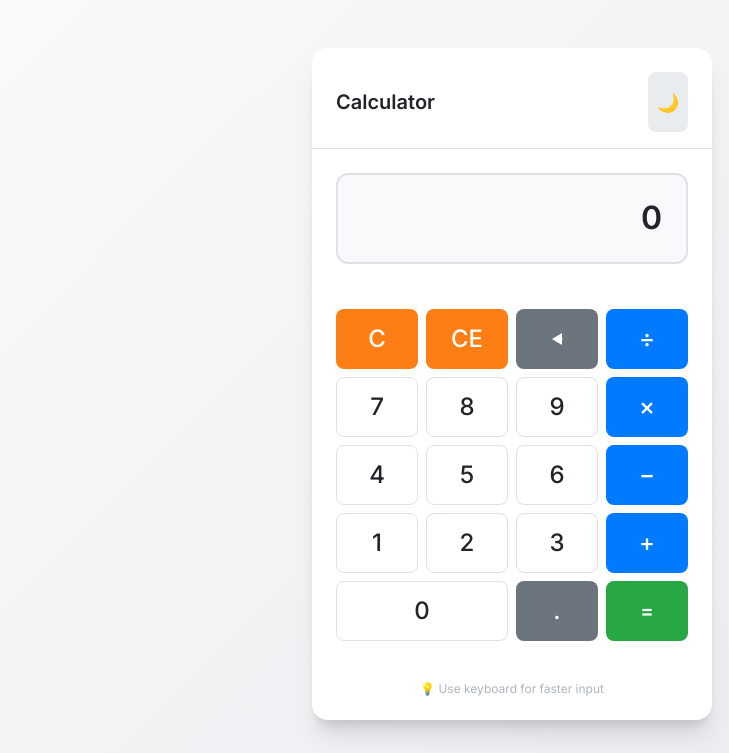
Scenario: Calculator Integration Tests › performs basic arithmetic operations
Click the button named "Two". click: (467,543)
box: [426,513,508,573]
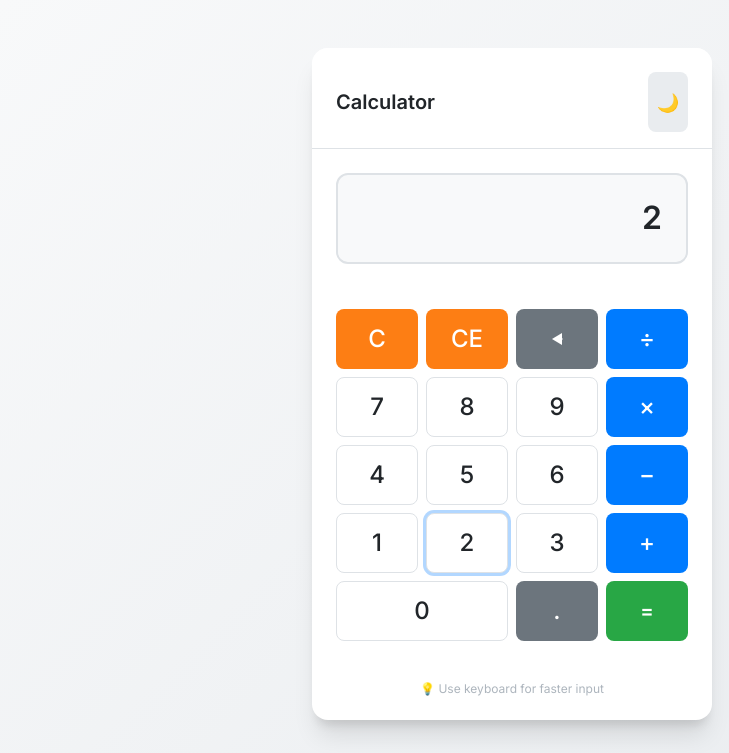
Click the button named "Add". click: (647,543)
box: [606,513,688,573]
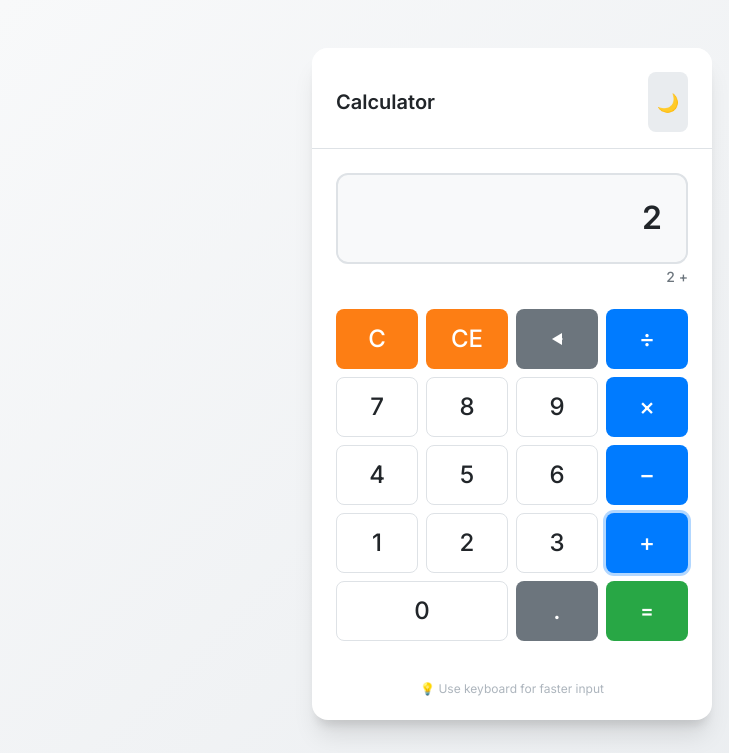
Click the button named "Three". click: (557,543)
box: [516,513,598,573]
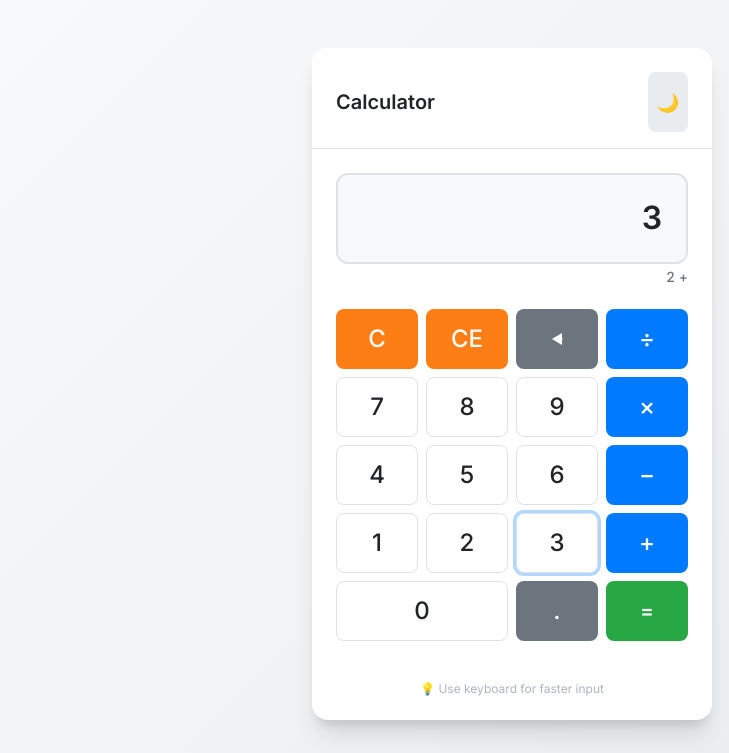
Click the button named "Equals". click: (647,611)
box: [606,581,688,641]
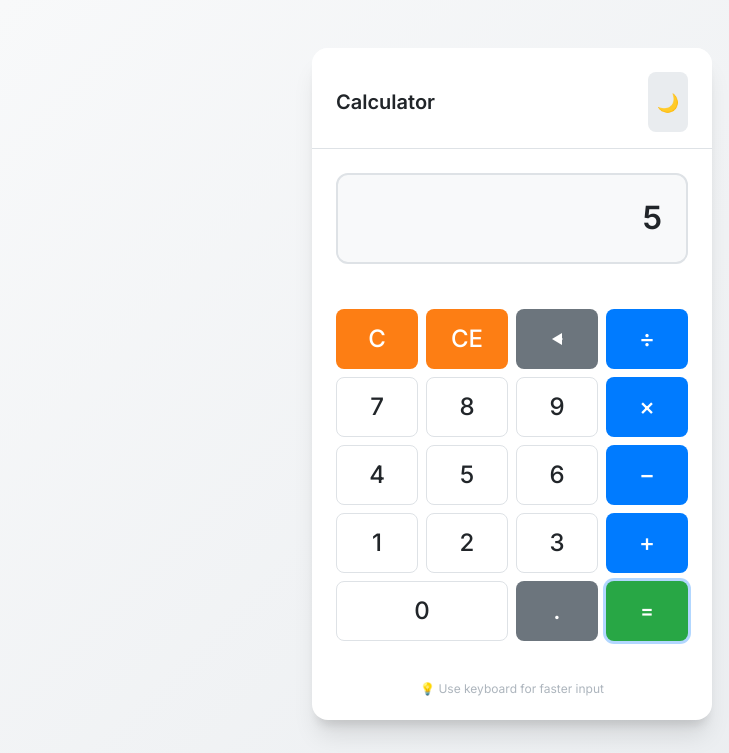
Now the field reads "5", box [642,198,662,237]
